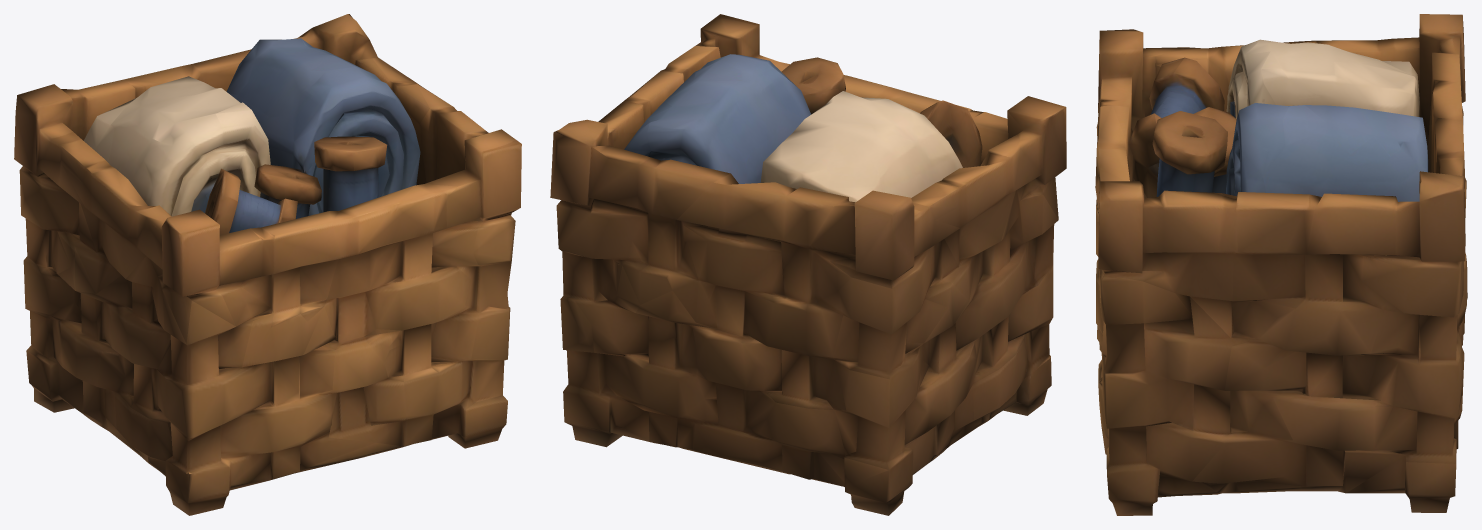
Rendered from sewing-basket.glb.
The picture shows the model from 3 angles, left to right: view 1: azimuth 30°, elevation 25°; view 2: azimuth 150°, elevation 25°; view 3: azimuth 270°, elevation 25°; orthographic projection. The views are drawn at different scales.
Visible parts, largest first — view 1: sewing-basket; view 2: sewing-basket; view 3: sewing-basket.
Part boxes in pixels (x1=…): sewing-basket: x1=14, y1=14, x2=521, y2=515; sewing-basket: x1=550, y1=14, x2=1066, y2=515; sewing-basket: x1=1095, y1=14, x2=1467, y2=515.
Bounding box in the file's own units: 0.32 × 0.3 × 0.28.
Materials: 1 (1 with a texture image).
